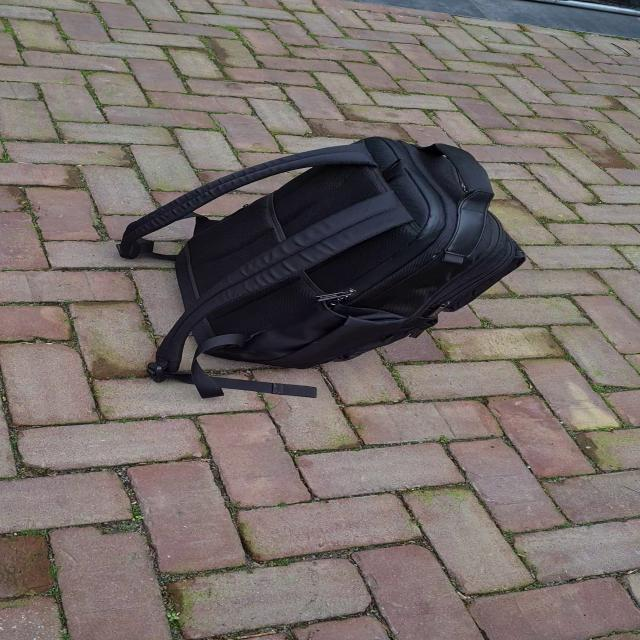backpack: (145, 137, 532, 399)
